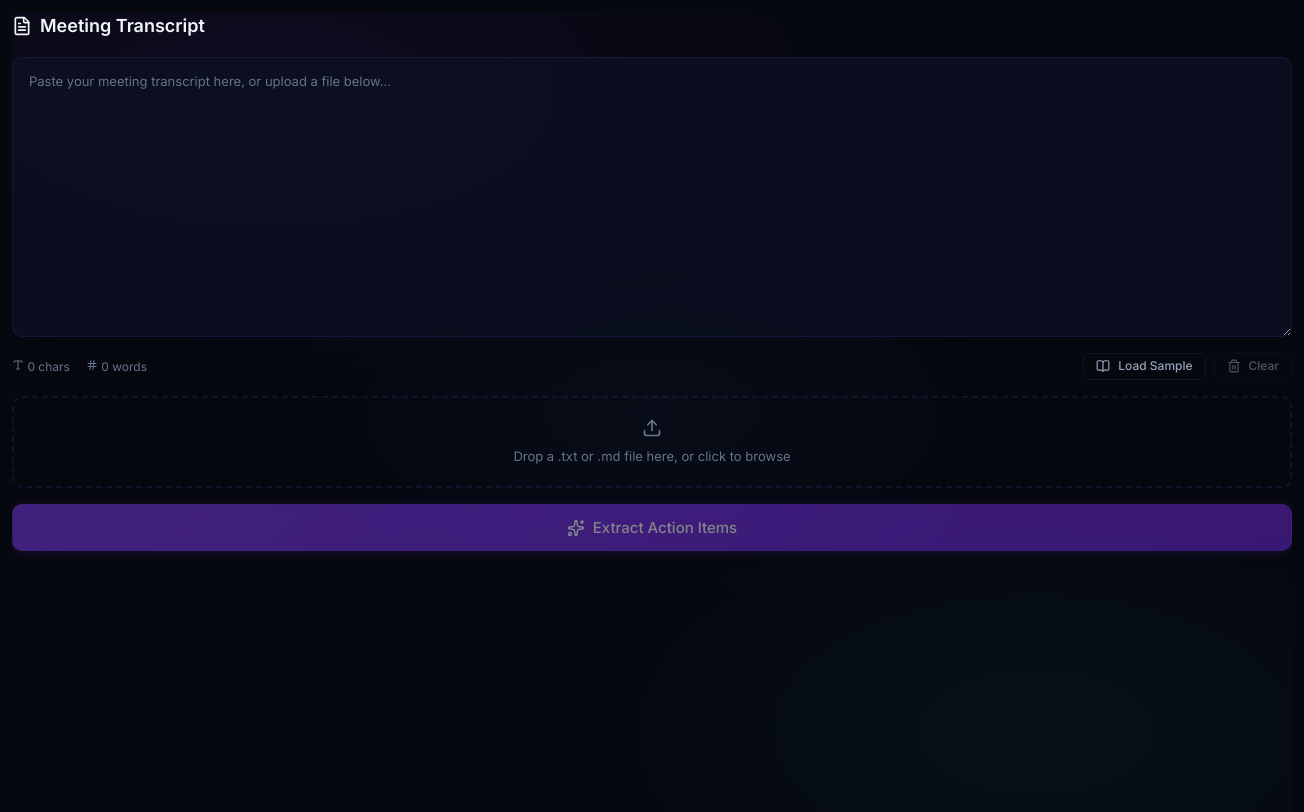
it: TranscriptInput › clears transcript
In the text box with placeholder "Paste your meeting transcript": (652, 197) [12,57,1292,337], type "Some text"
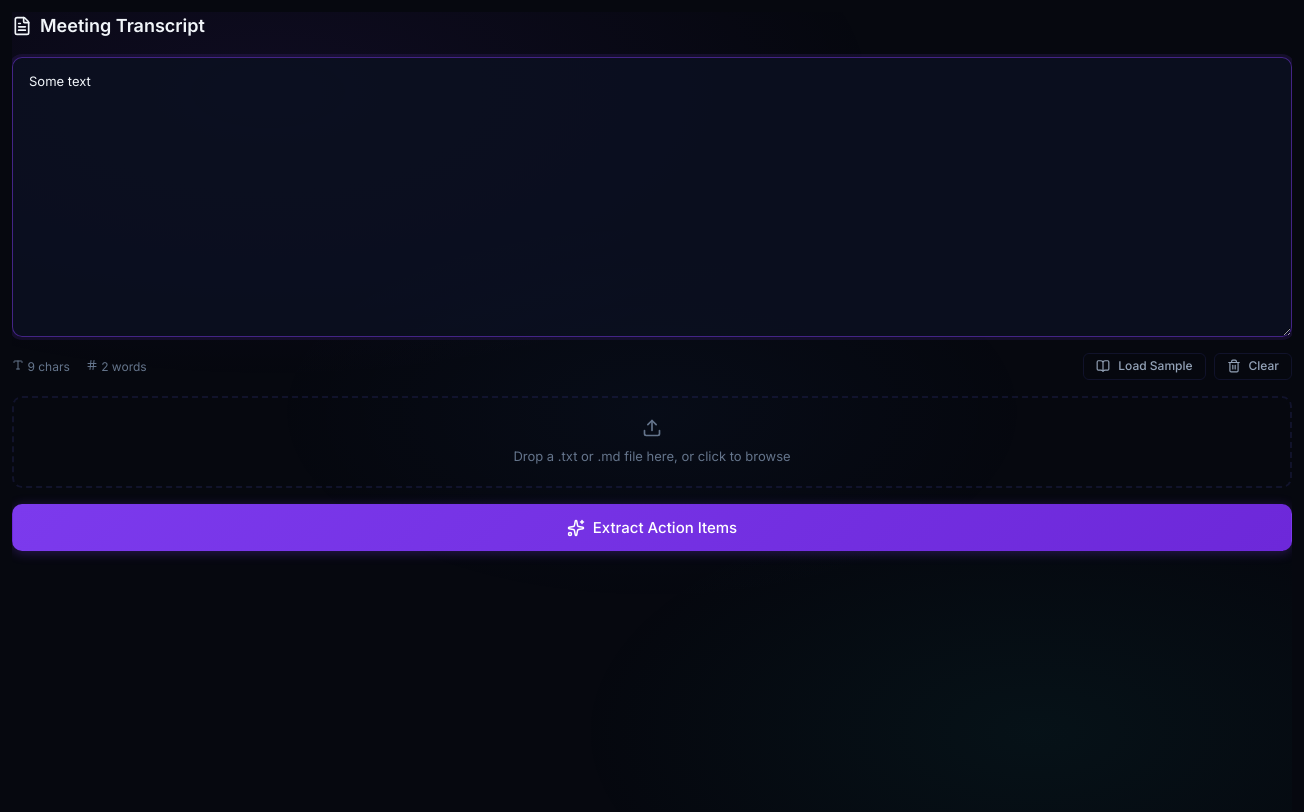
Click the button "Clear": (1253, 366) [1214,353,1292,380]
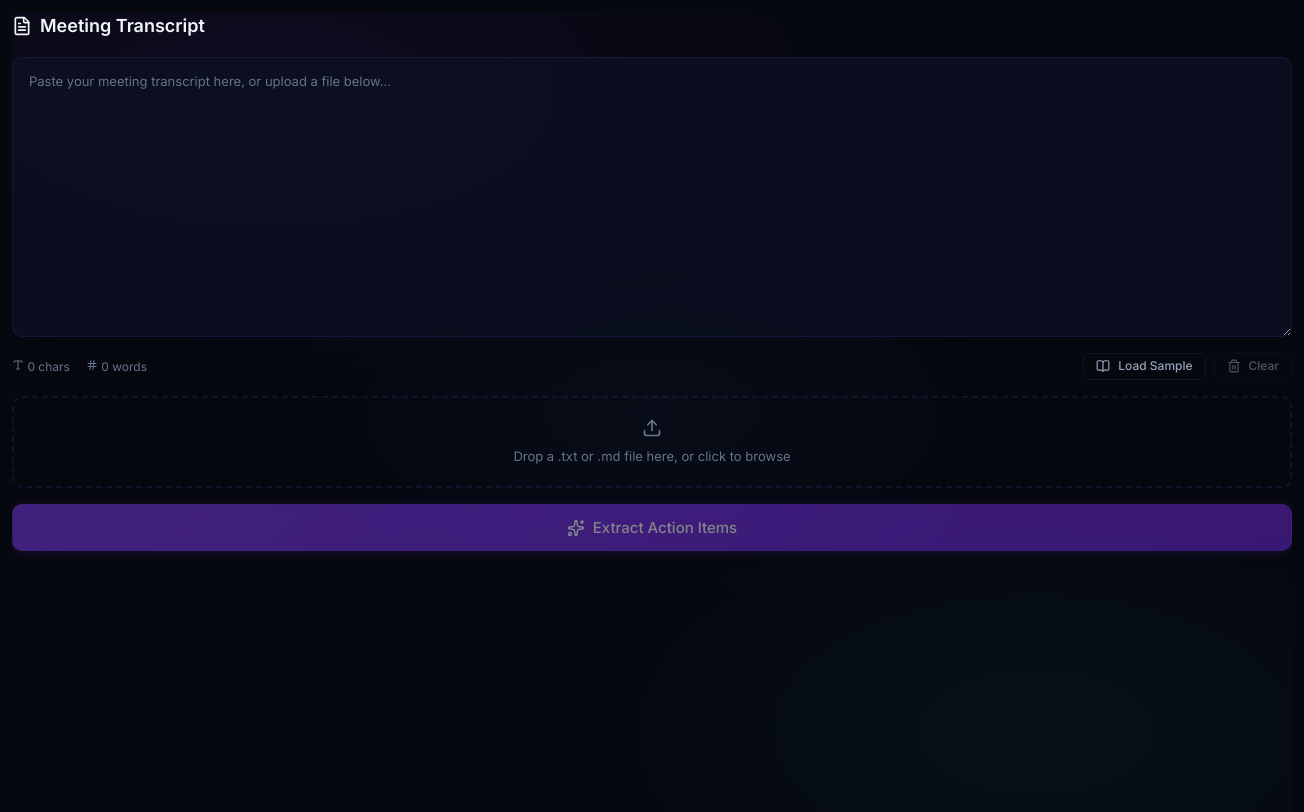
expect the text box with placeholder "Paste your meeting transcript" is empty: met, box [12,57,1292,337]
